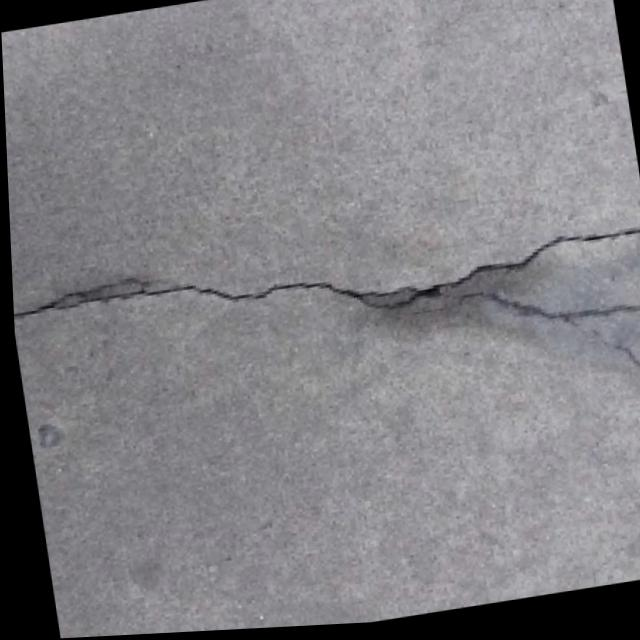Crack: (7, 163, 640, 461)
